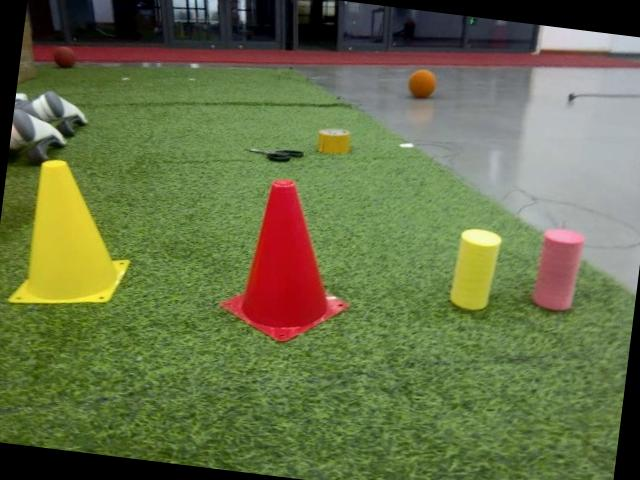orange_ball: (406, 66, 438, 100)
red_barrel: (209, 170, 363, 353)
red_cylinder: (530, 224, 584, 314)
yellow_barrel: (2, 153, 142, 320)
yellow_cylinder: (448, 224, 500, 314)
